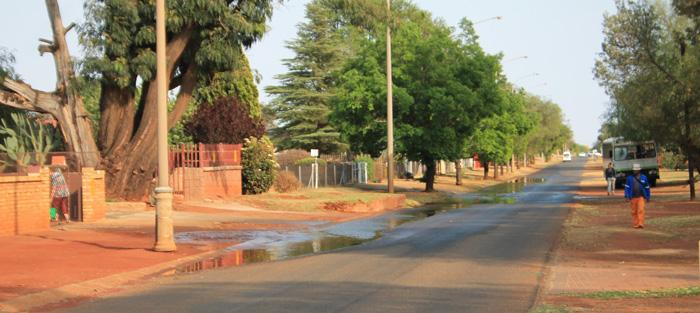water_leak: (242, 211, 476, 260)
